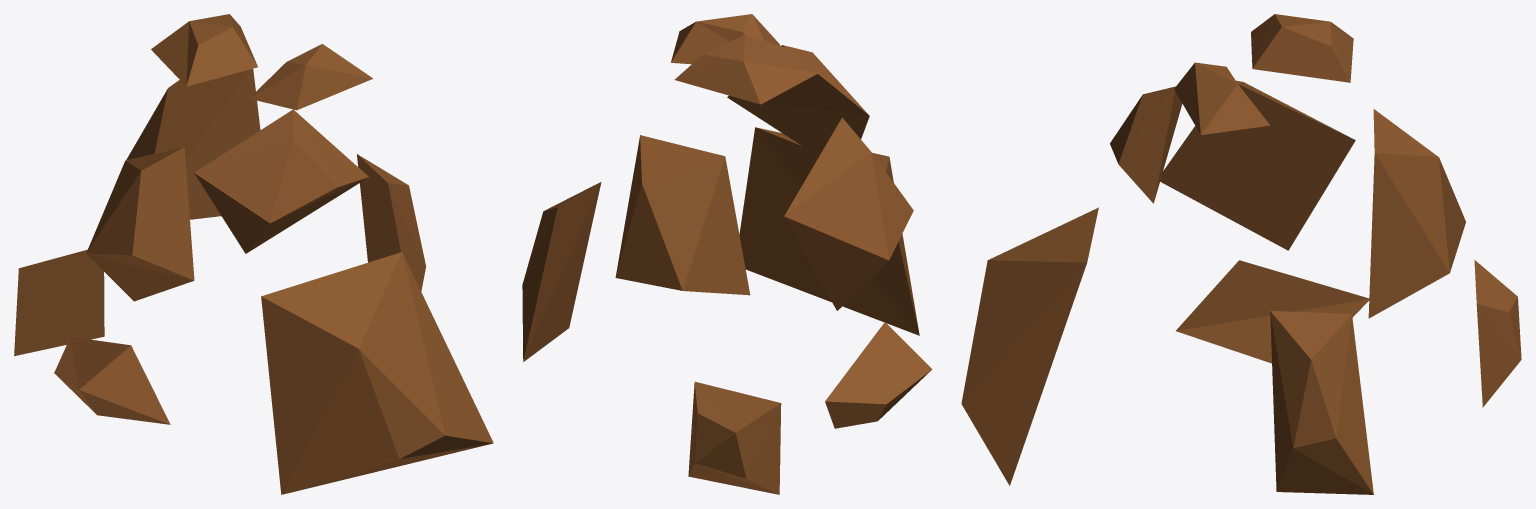
Rendered from CopperOreB.fbx.
The picture shows the model from 3 angles, left to right: view 1: azimuth 30°, elevation 25°; view 2: azimuth 150°, elevation 25°; view 3: azimuth 270°, elevation 25°; orthographic projection. The views are drawn at different scales.
Parts seen in each view (by area): view 1: CopperOreB; view 2: CopperOreB; view 3: CopperOreB.
Part boxes in pixels (<box>): CopperOreB: <box>14,14,493,494</box>; CopperOreB: <box>522,14,932,494</box>; CopperOreB: <box>961,14,1521,494</box>.
Size of the model in its own units: 40.77 by 38.94 by 49.24.
